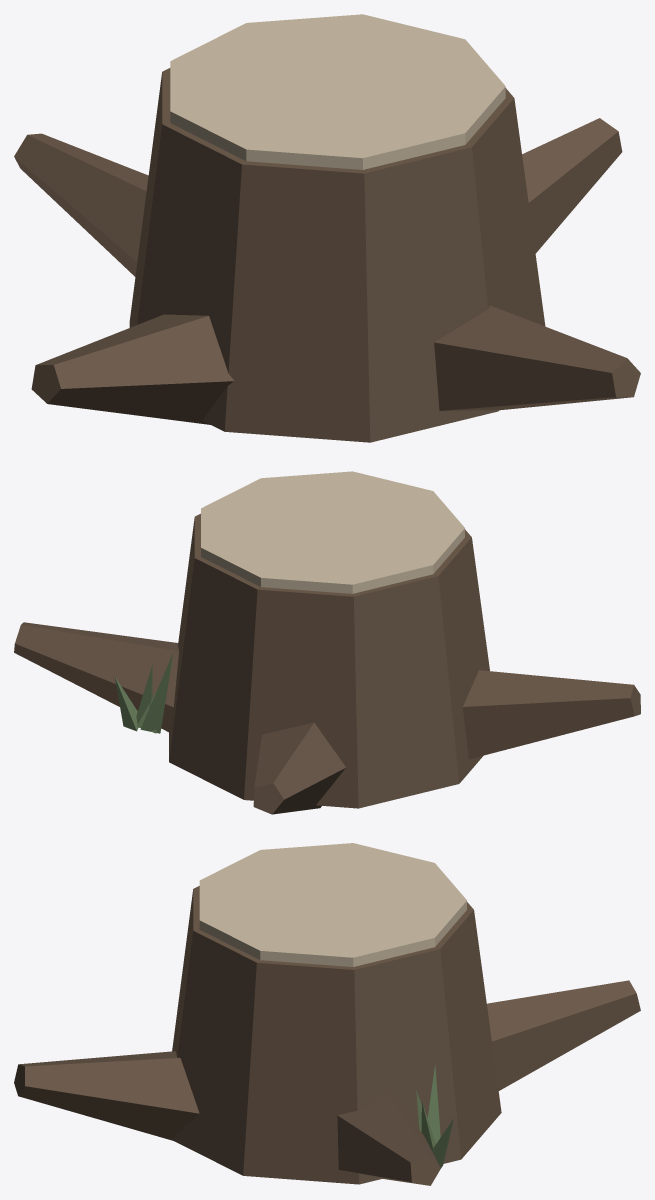
Rendered from stump.glb.
3 renders of one model, top to bottom at view 1: azimuth 30°, elevation 25°; view 2: azimuth 150°, elevation 25°; view 3: azimuth 270°, elevation 25°, orthographic. The views are drawn at different scales.
Parts seen in each view (by area): view 1: stump; view 2: stump; view 3: stump.
Boxes of the visible parts, box(x1,y1,x2,y2) form: stump: box(14, 14, 640, 442); stump: box(14, 471, 640, 814); stump: box(14, 843, 640, 1185).
Size of the model in its own units: 1.83 by 0.7285 by 1.82.
